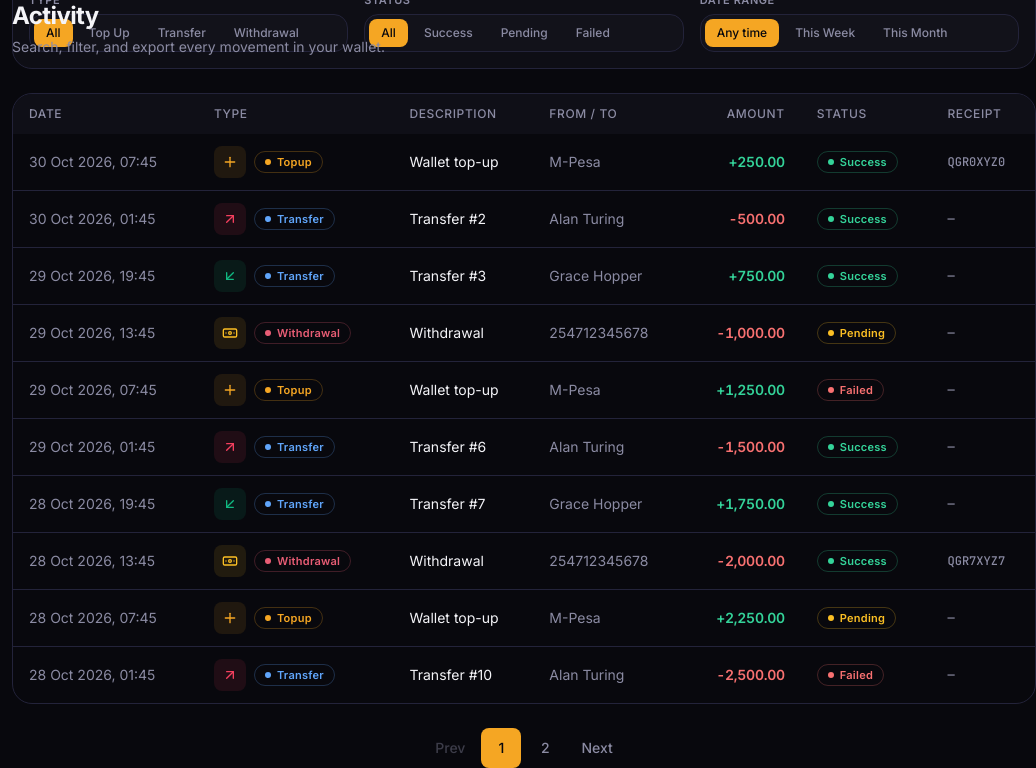
Test: Transactions › paginates to the next page
The width and height of the screenshot is (1036, 768).
(page scrolled)
Click the button "2": (545, 748) [525, 728, 565, 767]
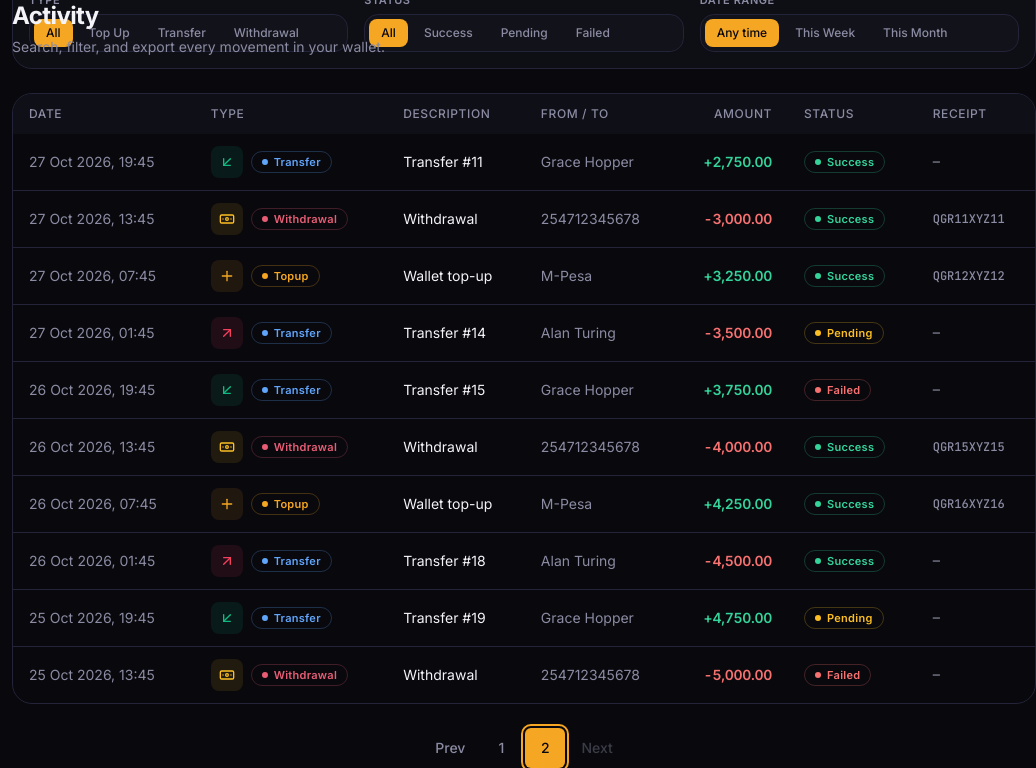
Result: the text "Transfer #11" is shown at [387, 134, 525, 190]
